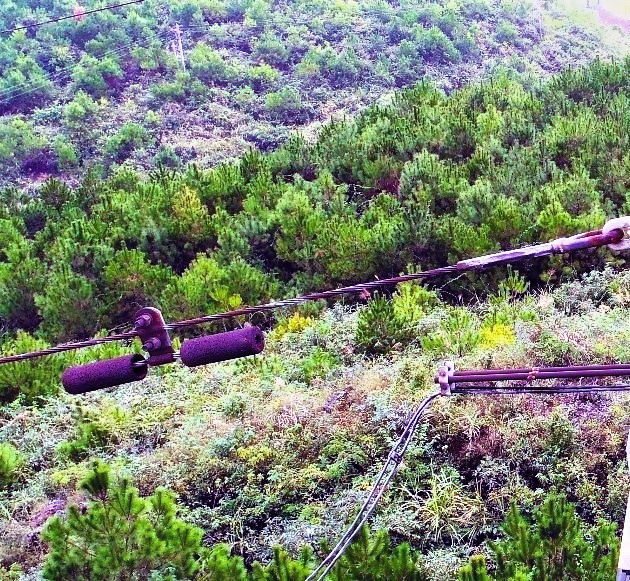Shockproof hammer: (52, 296, 266, 399)
